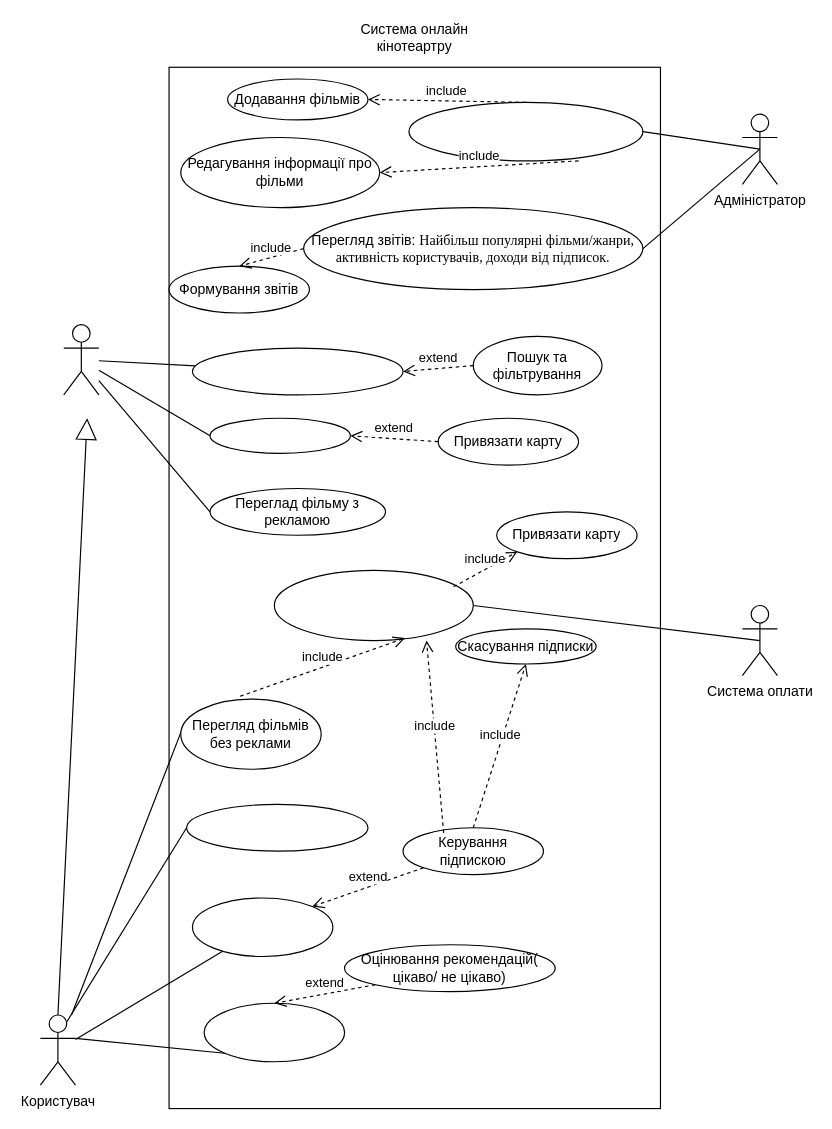
The diagram is 832 pixels wide and 1129 high, and some of its shapes have lost their labels. The centre of each missing label's shape, as x and y in pixels:
Гість: pixel 81 359
Додавання фільми у "Вибране": pixel 276 827
Керування профілем: pixel 262 926
Оформлення/ продовження підписки: pixel 373 605
Перегляд каталогу фільмів: pixel 297 371
Перегляд рекомендацій: pixel 274 1032
Регистрація: pixel 279 435
Управління каталогом фільмів: pixel 525 131
